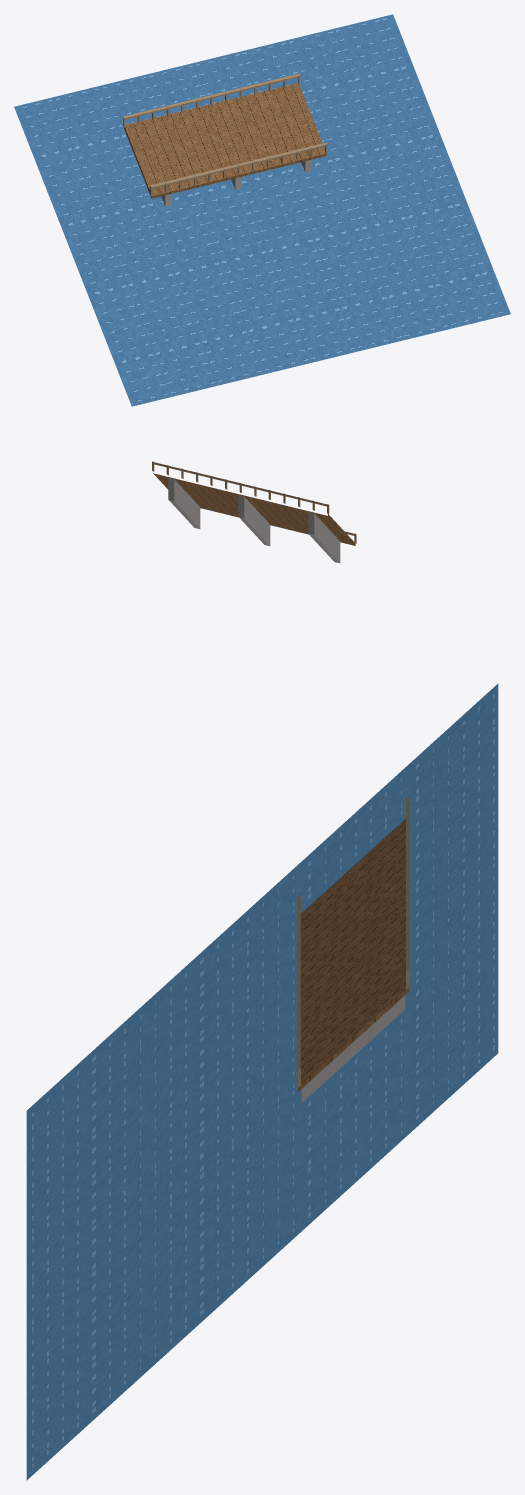
File: bridge.glb
3 renders of one model, top to bottom at view 1: azimuth 30°, elevation 25°; view 2: azimuth 150°, elevation 25°; view 3: azimuth 270°, elevation 25°, orthographic. The views are drawn at different scales.
Visible parts, largest first — view 1: bridge; view 2: bridge; view 3: bridge.
Boxes of the visible parts, x1=… form: bridge: x1=14, y1=14, x2=510, y2=406; bridge: x1=152, y1=461, x2=356, y2=563; bridge: x1=26, y1=683, x2=498, y2=1480.
Size of the model in its own units: 1300 by 700 by 700.
Materials: 4 (2 with a texture image).
